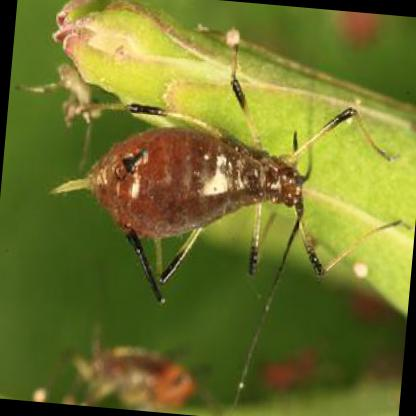uroleucon compositae: (56, 76, 353, 301)
